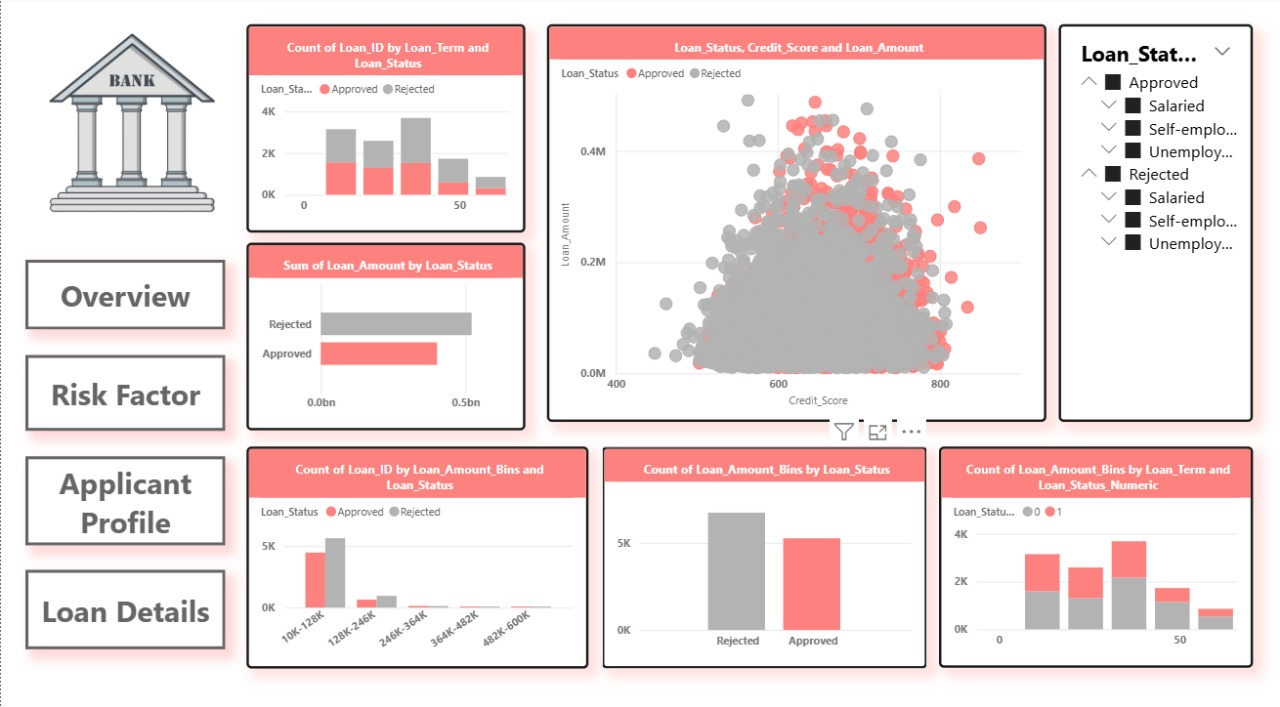

Layout of this report page (visuals, bound fields, positions):
{"tool":"powerbi","page":{"name":"Page 4","canvas":[1280,720],"ordinal":3},"visuals":[{"type":"image","box":[8.6,0,245.8,253.1],"z":0},{"type":"actionButton","box":[24.1,264.2,200.3,70],"z":1000},{"type":"actionButton","box":[24.1,359.5,200.3,76],"z":2000},{"type":"actionButton","box":[24.1,460.9,200.3,89.3],"z":3000},{"type":"actionButton","box":[24.1,574.3,200.3,79.6],"z":4000},{"type":"columnChart","fields":{"Category":["clean_data.Loan_Term"],"Y":["CountNonNull(clean_data.Loan_ID)"],"Series":["clean_data.Loan_Status"]},"box":[245.8,28.1,278.8,209.1],"z":5000},{"type":"clusteredBarChart","fields":{"Category":["clean_data.Loan_Status"],"Y":["Sum(clean_data.Loan_Amount)"]},"box":[245.8,247,278.8,188.3],"z":6000},{"type":"clusteredColumnChart","fields":{"Y":["CountNonNull(clean_data.Loan_ID)"],"Series":["clean_data.Loan_Status"],"Category":["clean_data.Loan_Amount_Bins"]},"box":[245.8,451.2,342.4,222.6],"z":7000},{"type":"scatterChart","fields":{"X":["clean_data.Credit_Score"],"Y":["clean_data.Loan_Amount"],"Series":["clean_data.Loan_Status"]},"box":[546.6,28.1,500.1,398.6],"z":8000},{"type":"slicer","fields":{"Values":["clean_data.Loan_Status","clean_data.Employment_Type","clean_data.Credit_Score","clean_data.Debt_to_Income_Ratio","clean_data.Loan_Term_Range"]},"box":[1059,28.1,194.4,398.6],"z":9000},{"type":"columnChart","fields":{"Category":["clean_data.Loan_Status"],"Y":["CountNonNull(clean_data.Loan_Amount_Bins)"]},"box":[601.6,451.2,325.3,222.6],"z":10000},{"type":"columnChart","fields":{"Category":["clean_data.Loan_Term"],"Y":["CountNonNull(clean_data.Loan_Amount_Bins)"],"Series":["clean_data.Loan_Status_Numeric"]},"box":[939.1,451.2,314.3,221.3],"z":11000}]}

Visuals, with their boxes in screenshot pixels (x1, y1, x2, y2), scaled from the page's 1280x720 canvas onto the 1280x707 screenshot:
image: [left=9, top=0, right=254, bottom=249]
actionButton: [left=24, top=259, right=224, bottom=328]
actionButton: [left=24, top=353, right=224, bottom=428]
actionButton: [left=24, top=453, right=224, bottom=540]
actionButton: [left=24, top=564, right=224, bottom=642]
columnChart - clean_data.Loan_Term x CountNonNull(clean_data.Loan_ID): [left=246, top=28, right=525, bottom=233]
clusteredBarChart - clean_data.Loan_Status x Sum(clean_data.Loan_Amount): [left=246, top=243, right=525, bottom=427]
clusteredColumnChart - CountNonNull(clean_data.Loan_ID) x clean_data.Loan_Status: [left=246, top=443, right=588, bottom=662]
scatterChart - clean_data.Credit_Score x clean_data.Loan_Amount: [left=547, top=28, right=1047, bottom=419]
slicer - clean_data.Loan_Status x clean_data.Employment_Type: [left=1059, top=28, right=1253, bottom=419]
columnChart - clean_data.Loan_Status x CountNonNull(clean_data.Loan_Amount_Bins): [left=602, top=443, right=927, bottom=662]
columnChart - clean_data.Loan_Term x CountNonNull(clean_data.Loan_Amount_Bins): [left=939, top=443, right=1253, bottom=660]
